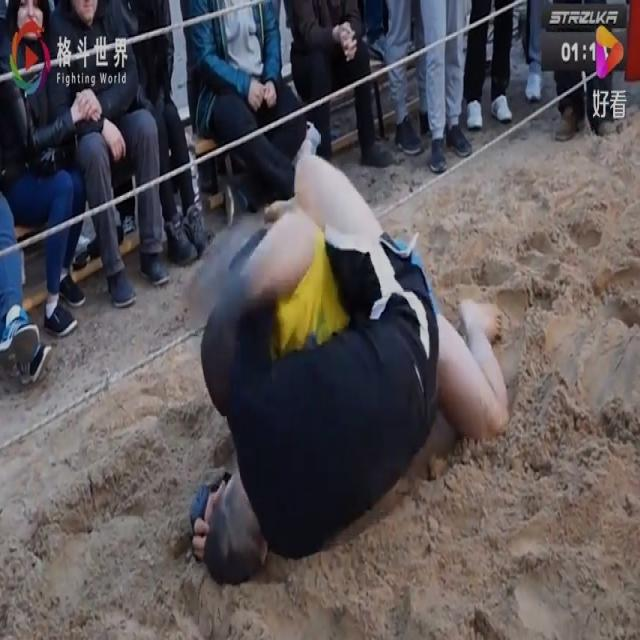fight: (173, 119, 517, 592)
